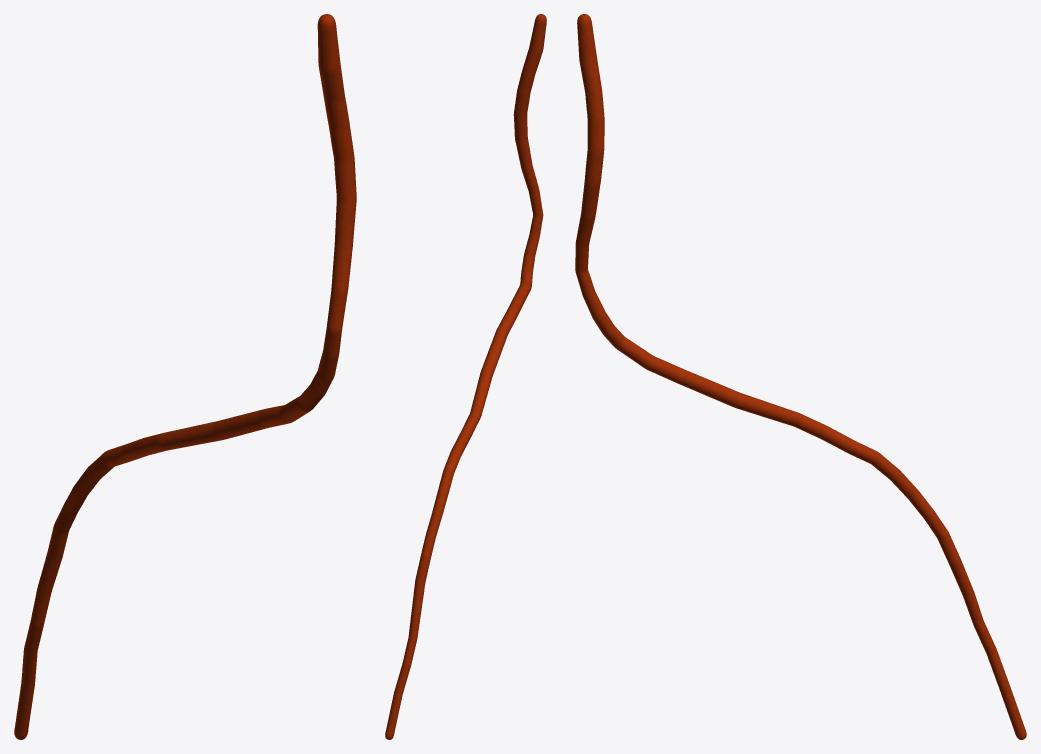
Rendered from CN X - Vagus nerve.glb.
3 renders of one model, left to right at view 1: azimuth 30°, elevation 25°; view 2: azimuth 150°, elevation 25°; view 3: azimuth 270°, elevation 25°, orthographic. The views are drawn at different scales.
Visible parts, largest first — view 1: CN X - Vagus nerve.glb; view 2: CN X - Vagus nerve.glb; view 3: CN X - Vagus nerve.glb.
Boxes of the visible parts, left/top/right/bottom form: CN X - Vagus nerve.glb: left=14, top=14, right=356, bottom=739; CN X - Vagus nerve.glb: left=385, top=14, right=546, bottom=739; CN X - Vagus nerve.glb: left=575, top=14, right=1026, bottom=739.
Size of the model in its own units: 0.0318 by 0.3248 by 0.1798.
1 material, 1 textured.
